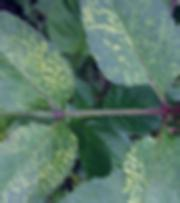Tomato leaf mosaic virus: (77, 0, 180, 97), (0, 0, 77, 113), (0, 119, 77, 203), (111, 120, 180, 203)
